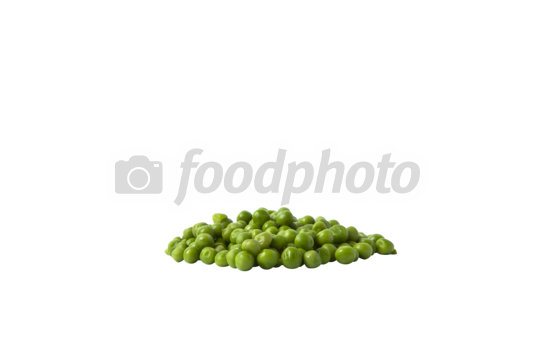boiled peas: (185, 221, 364, 257)
